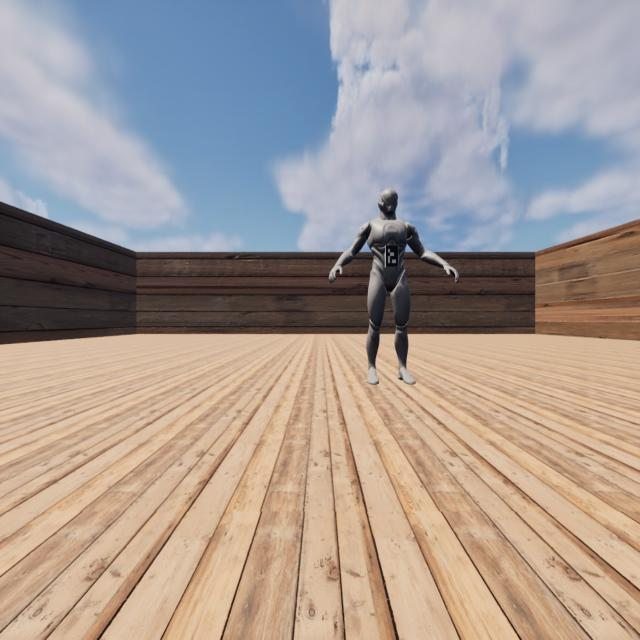aruco: (386, 245, 398, 267)
hip: (369, 270, 406, 279)
